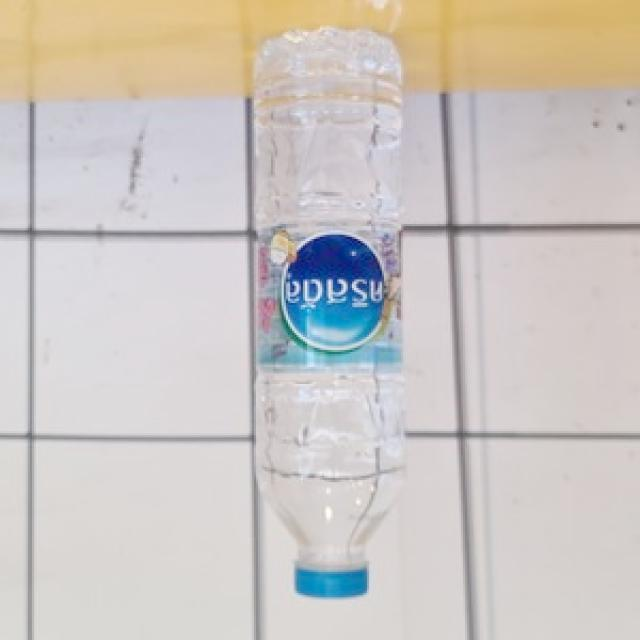cap: (292, 561, 372, 600)
label: (256, 224, 408, 368)
not-crumbled: (252, 25, 404, 606)
